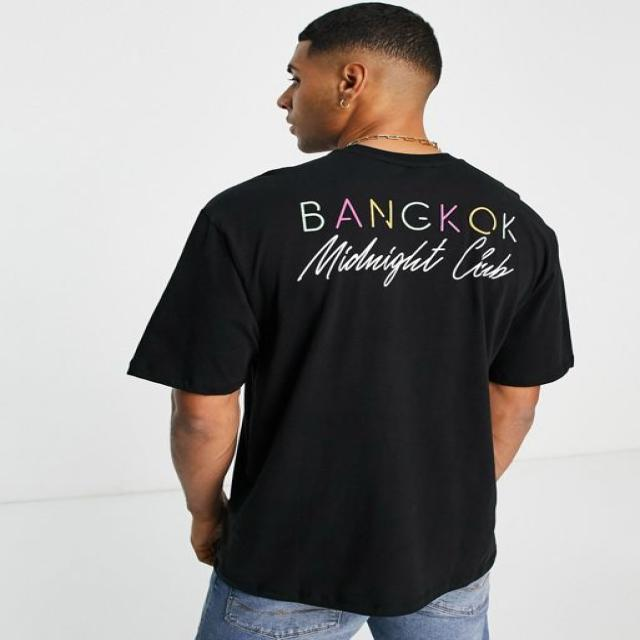tshirt: (127, 144, 574, 612)
